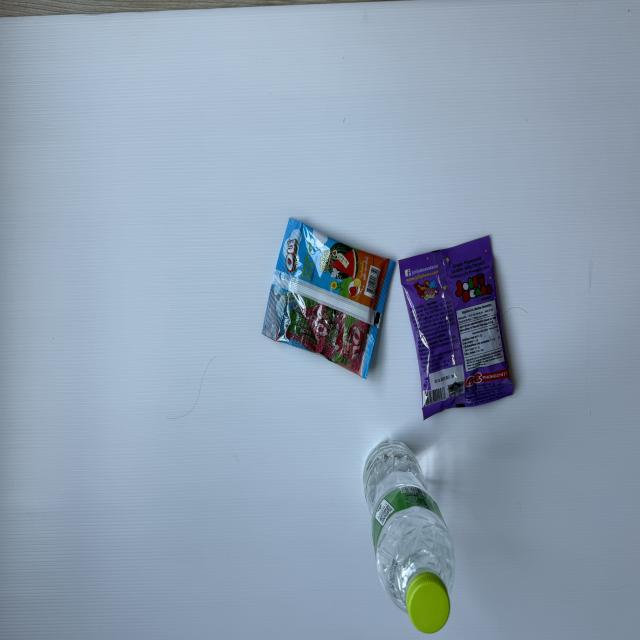candy: (260, 212, 398, 382), (398, 234, 519, 423)
water: (360, 432, 469, 638)
